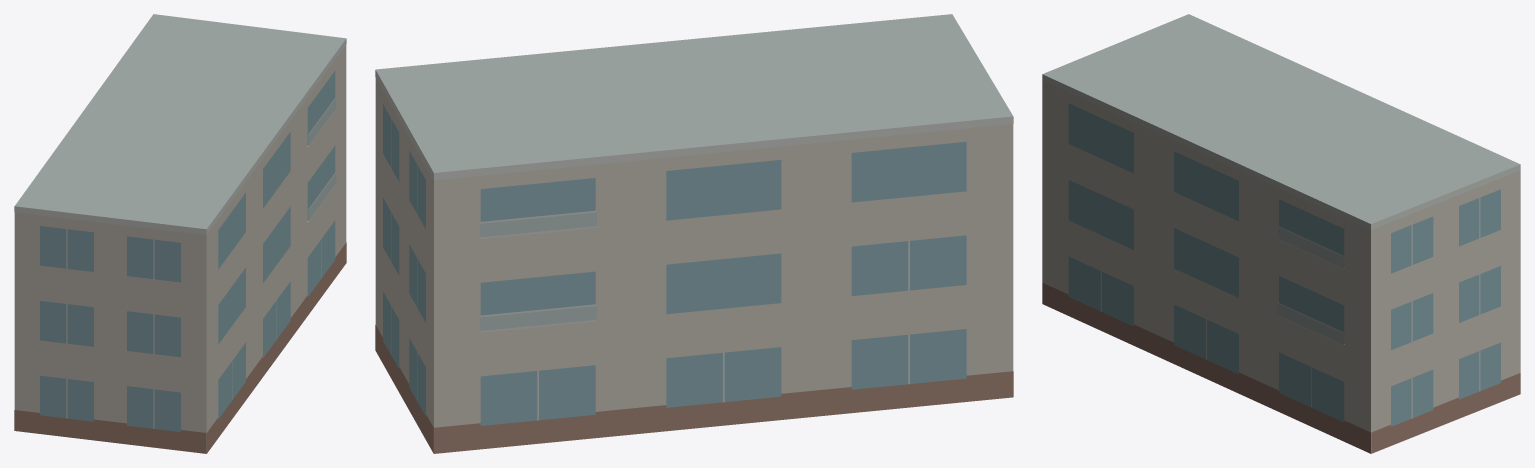
The model's file is survey-upis-32684468.glb.
3 views of the same model, side by side, from view 1: azimuth 30°, elevation 25°; view 2: azimuth 150°, elevation 25°; view 3: azimuth 270°, elevation 25° (orthographic). The views are drawn at different scales.
Visible parts, largest first — view 1: survey-upis-32684468.tmp; view 2: survey-upis-32684468.tmp; view 3: survey-upis-32684468.tmp.
Part boxes in pixels (left/top/right/bottom): survey-upis-32684468.tmp: left=14, top=14, right=346, bottom=453; survey-upis-32684468.tmp: left=375, top=14, right=1013, bottom=453; survey-upis-32684468.tmp: left=1042, top=14, right=1520, bottom=453.
Size of the model in its own units: 17.96 by 9.15 by 17.28.
